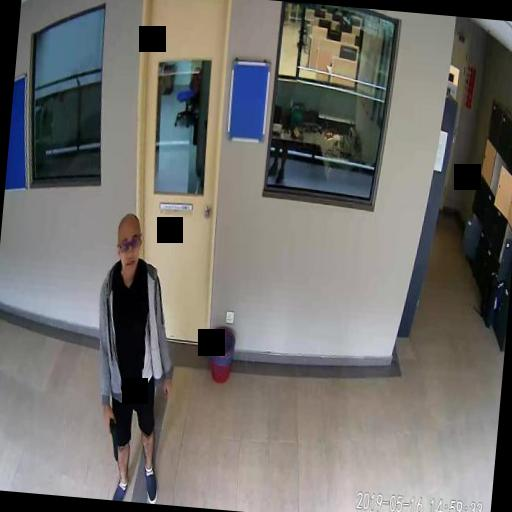Handgun: (103, 412, 120, 460)
